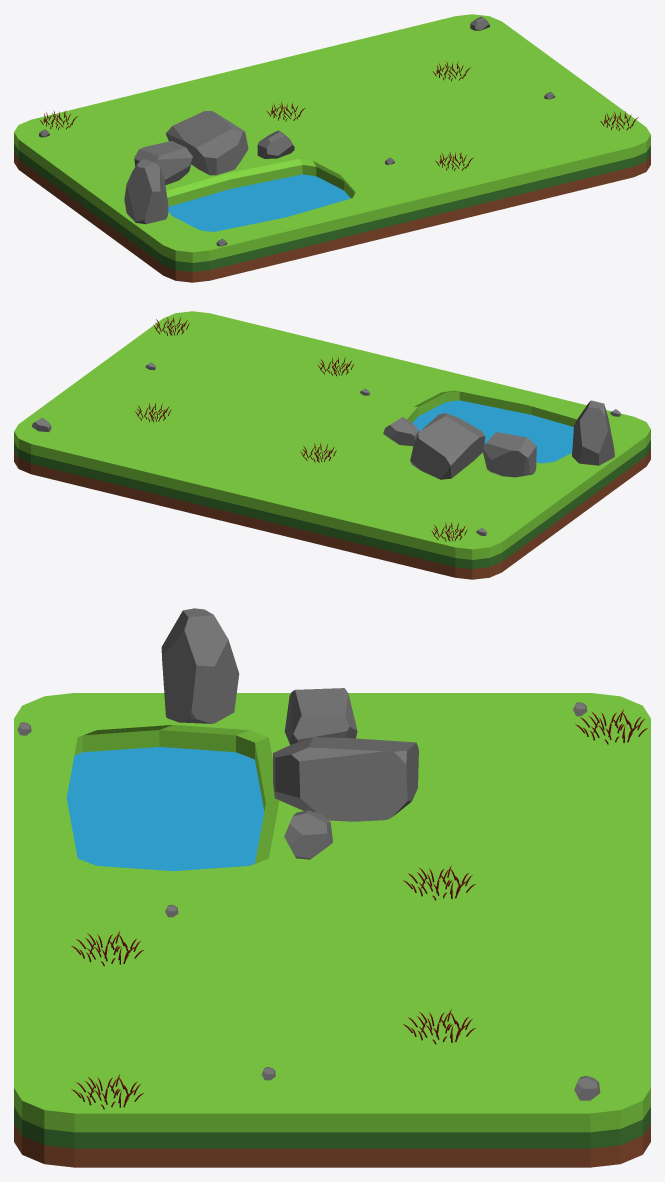
The model's file is Habitat.fbx.
3 views of the same model, one above another, from view 1: azimuth 30°, elevation 25°; view 2: azimuth 150°, elevation 25°; view 3: azimuth 270°, elevation 25° (orthographic). The views are drawn at different scales.
Parts seen in each view (by area): view 1: Plataforma_água, Circle, pedra3, Pedra1, pedra9, pedra2; view 2: Plataforma_água, Circle, pedra3, Pedra1, pedra9, pedra2; view 3: Plataforma_água, Circle, pedra3, Pedra1, pedra9, pedra2.
Boxes of the visible parts, left/top/right/bottom form: Plataforma_água: left=14, top=14, right=650, bottom=282; Circle: left=168, top=174, right=350, bottom=231; pedra3: left=166, top=111, right=248, bottom=175; Pedra1: left=124, top=159, right=168, bottom=224; pedra9: left=134, top=141, right=192, bottom=185; pedra2: left=257, top=130, right=294, bottom=158; Plataforma_água: left=14, top=311, right=650, bottom=579; Circle: left=412, top=400, right=573, bottom=463; pedra3: left=410, top=413, right=485, bottom=479; Pedra1: left=572, top=400, right=614, bottom=465; pedra9: left=482, top=432, right=536, bottom=477; pedra2: left=383, top=417, right=419, bottom=446; Plataforma_água: left=14, top=693, right=650, bottom=1167; Circle: left=66, top=747, right=264, bottom=871; pedra3: left=273, top=737, right=418, bottom=821; Pedra1: left=161, top=608, right=239, bottom=723; pedra9: left=284, top=688, right=357, bottom=744; pedra2: left=284, top=810, right=332, bottom=859.
Size of the model in its own units: 500 by 83.08 by 320.
